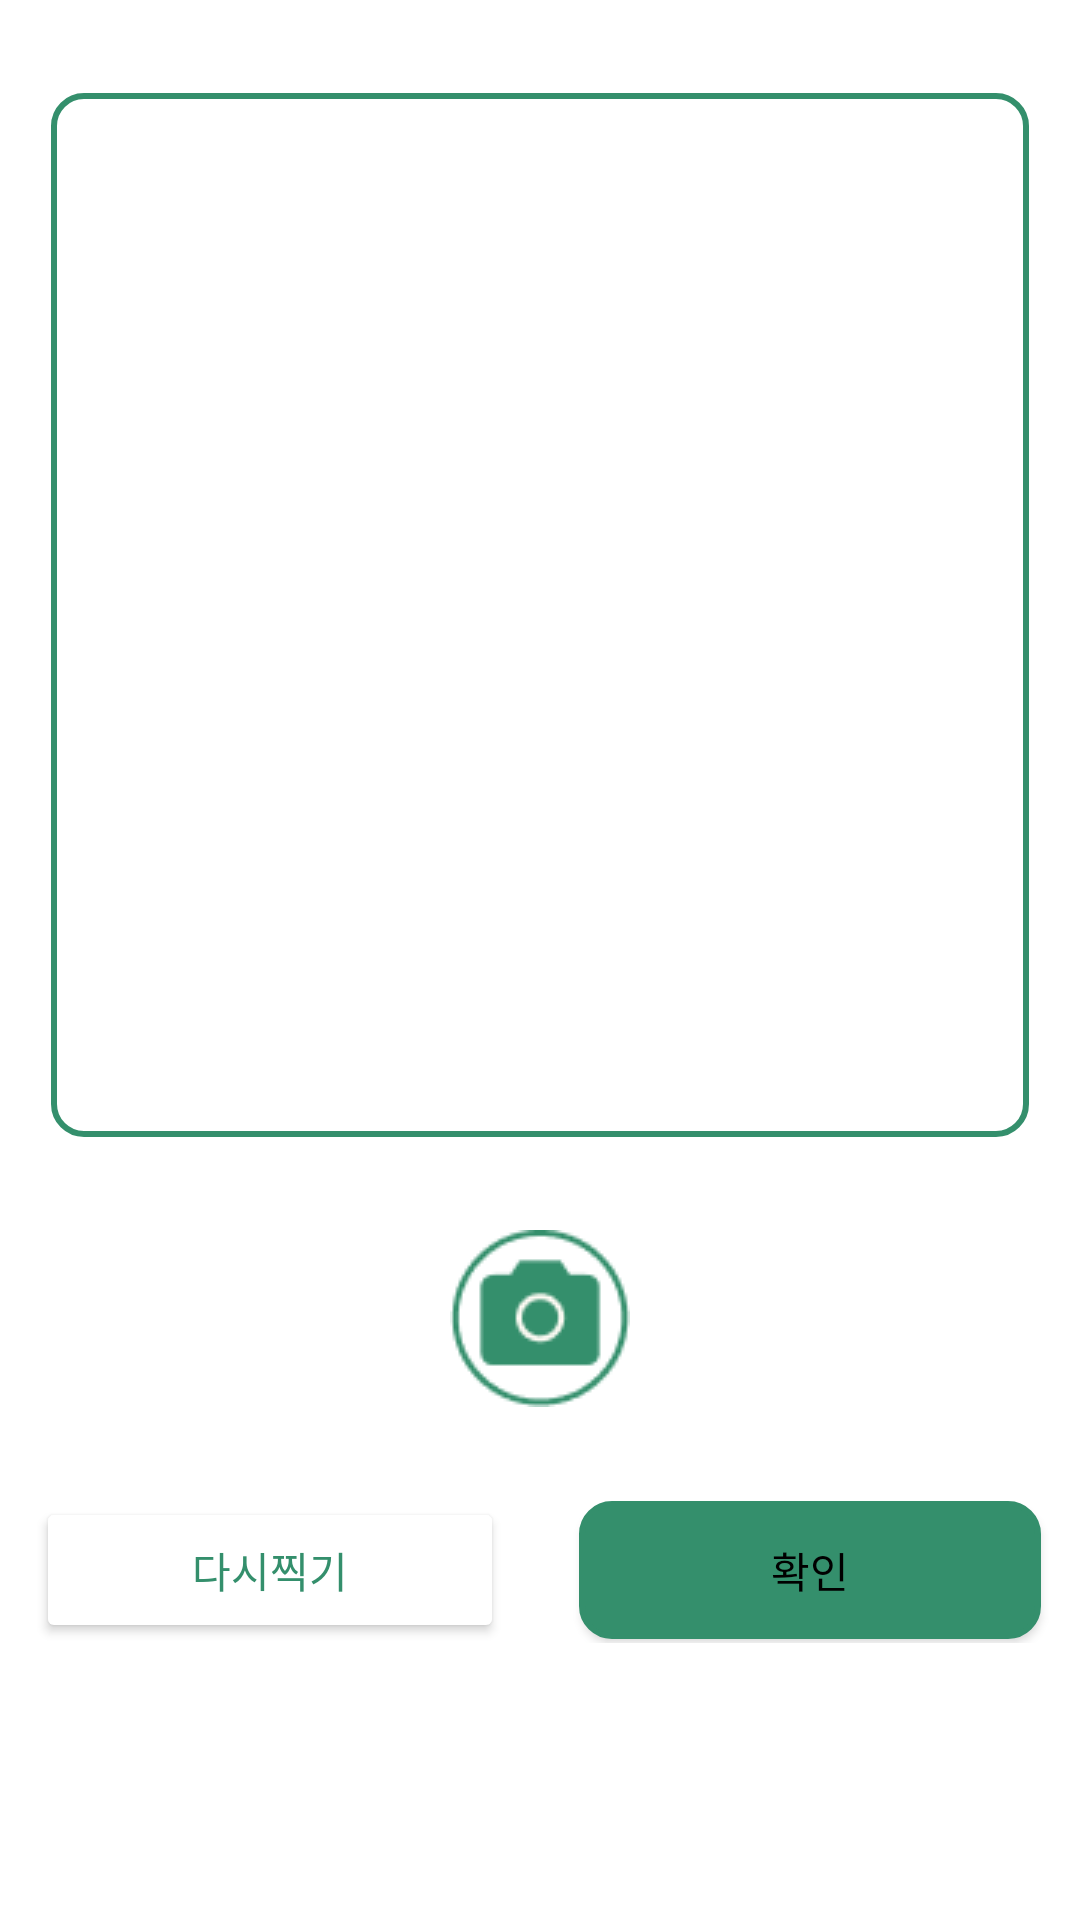

Named icons in this screenshot (1080*1920) and their bounding boxes, (x1=x1, y1=y1, x2=x2, y2=y2):
photo: (x1=450, y1=1230, x2=630, y2=1407)
